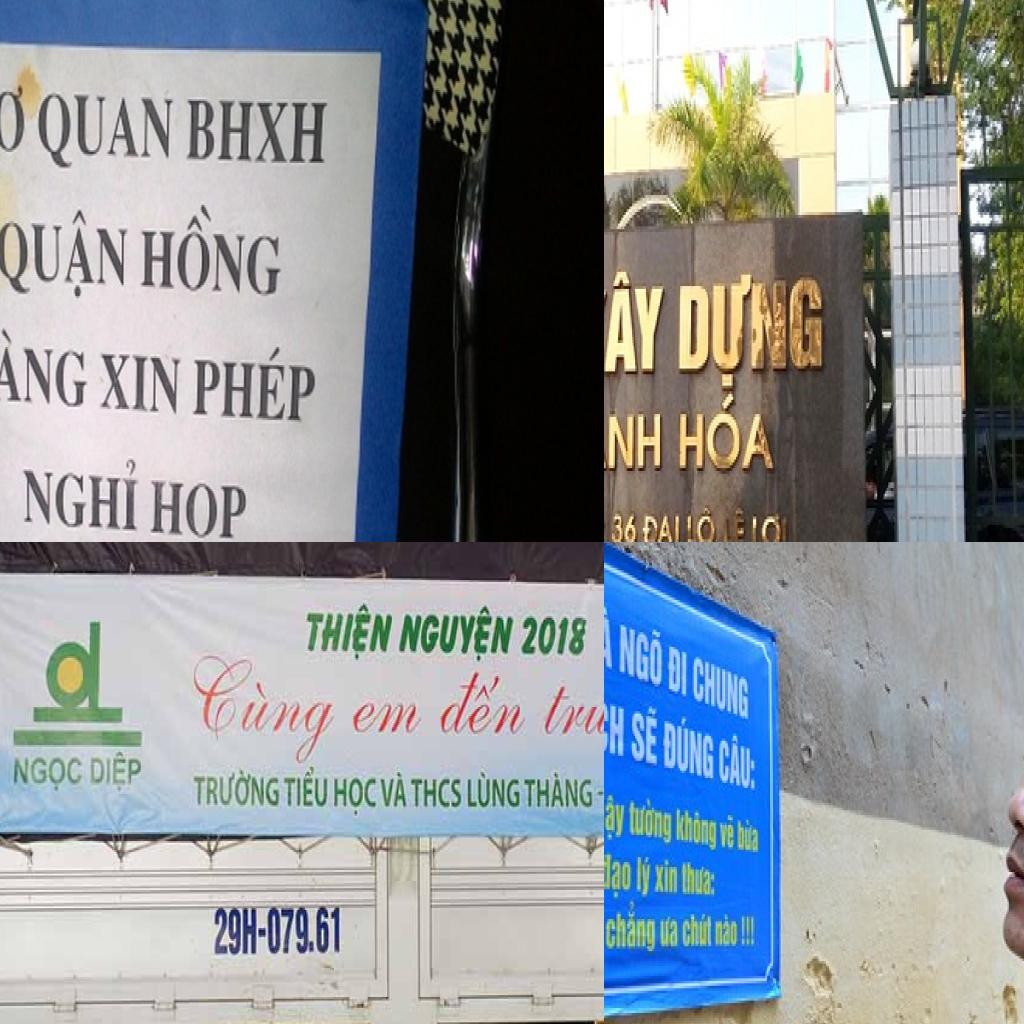text: (674, 266, 824, 394), (192, 652, 341, 766), (139, 202, 285, 302), (0, 203, 131, 308), (32, 84, 176, 176), (188, 334, 318, 427), (180, 90, 334, 168), (20, 454, 142, 536), (674, 391, 776, 471), (0, 323, 88, 414), (399, 604, 519, 664), (604, 263, 666, 379), (438, 665, 532, 736), (98, 347, 184, 420), (305, 598, 396, 664), (537, 681, 604, 766), (692, 654, 752, 724), (661, 712, 716, 786), (189, 767, 281, 810), (604, 408, 663, 473), (520, 768, 595, 814), (618, 615, 664, 689), (604, 896, 658, 956), (350, 698, 428, 738), (519, 615, 590, 658), (13, 756, 84, 796), (718, 728, 758, 793), (211, 906, 261, 957), (88, 750, 142, 796), (627, 798, 674, 850), (466, 767, 521, 810), (282, 763, 330, 810), (675, 808, 719, 857), (0, 82, 27, 159), (330, 776, 378, 819), (629, 699, 658, 768), (412, 776, 464, 812), (604, 686, 625, 773), (604, 852, 633, 901), (680, 862, 717, 899), (666, 642, 689, 699), (604, 790, 628, 844), (749, 511, 790, 542), (379, 769, 410, 810), (683, 505, 717, 542), (641, 513, 681, 542), (682, 912, 714, 948), (654, 857, 680, 899), (718, 505, 745, 542), (635, 855, 655, 899), (737, 818, 761, 854), (610, 513, 639, 542), (604, 597, 615, 671), (716, 914, 739, 949), (660, 914, 680, 951), (720, 810, 736, 855), (604, 519, 607, 542)
